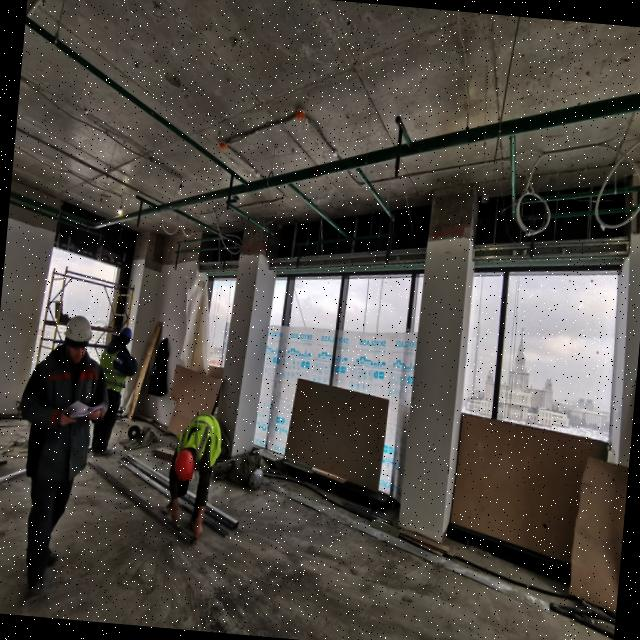Helmet: (63, 316, 95, 358), (173, 449, 198, 483), (117, 328, 136, 350)
Jacket: (181, 415, 223, 455), (102, 343, 127, 397)
NoJacket: (32, 349, 101, 483)
